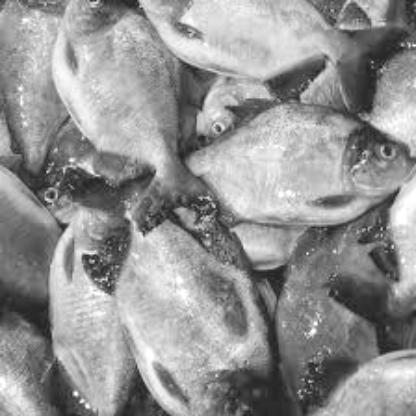ikan-pacu: (115, 223, 271, 416), (196, 100, 406, 224), (61, 0, 191, 196)
